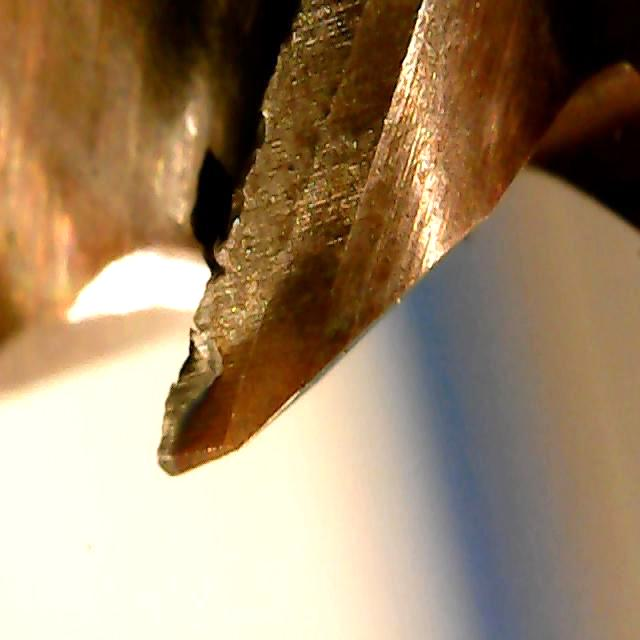Tool-wear-class-2: (149, 268, 306, 482)
